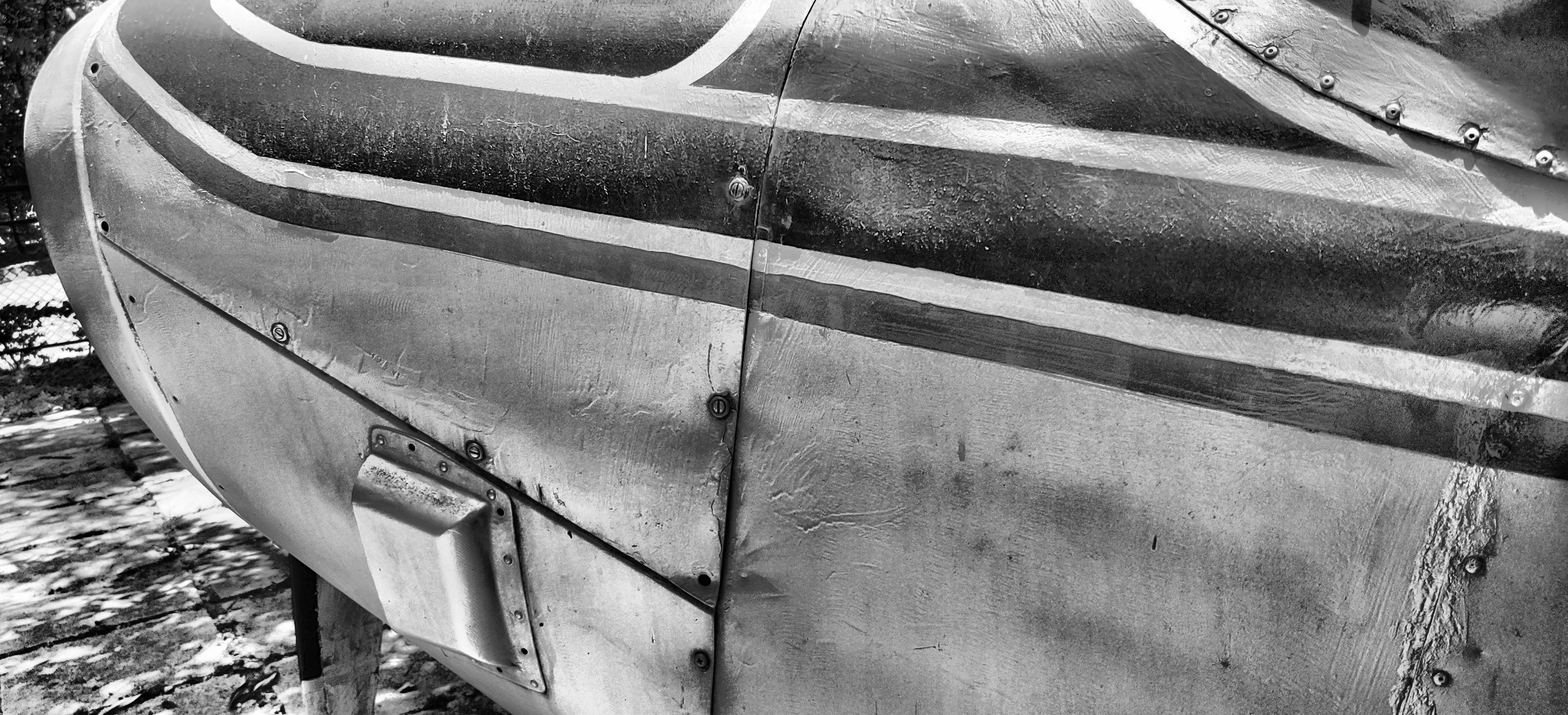dent: (669, 572, 719, 609)
missing-head: (98, 217, 114, 234), (696, 572, 712, 588), (494, 506, 508, 519), (89, 61, 102, 74), (216, 483, 229, 493), (519, 645, 529, 657), (127, 294, 139, 303), (566, 528, 575, 540), (408, 443, 417, 453), (494, 665, 504, 674), (172, 395, 180, 404)
paint-peel-off: (711, 411, 738, 560), (277, 222, 339, 244), (187, 184, 225, 205), (284, 169, 312, 180), (537, 484, 544, 503)
scratch: (708, 343, 716, 394)
